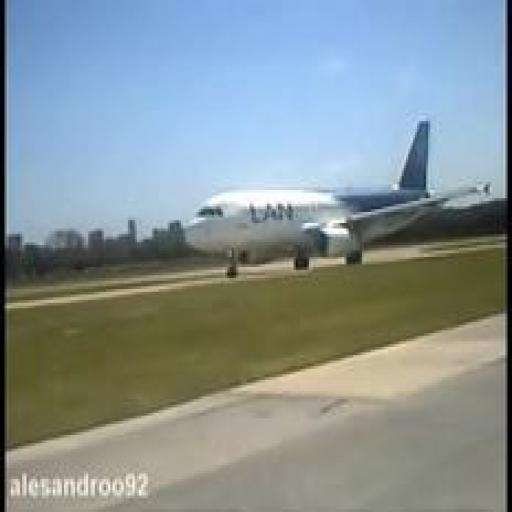aircraft: (183, 116, 493, 278)
